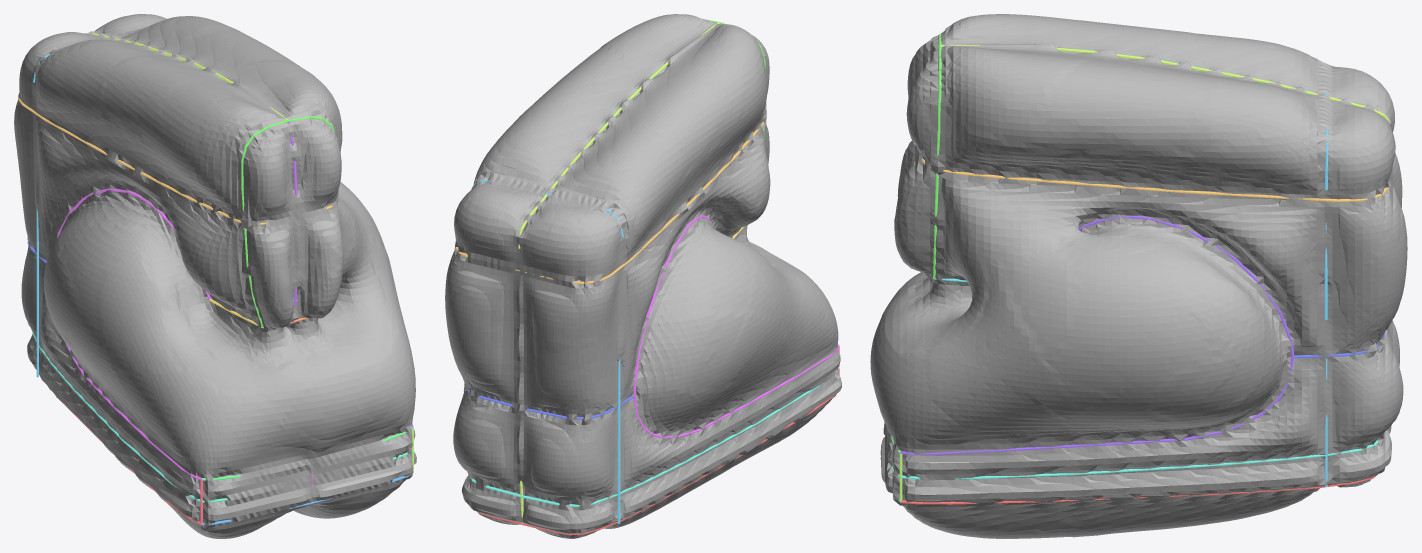
File: t2f_sewing_machine.gltf
3 renders of one model, left to right at view 1: azimuth 30°, elevation 25°; view 2: azimuth 150°, elevation 25°; view 3: azimuth 270°, elevation 25°, orthographic. The views are drawn at different scales.
Size of the model in its own units: 0.4977 by 0.7199 by 0.7406.
